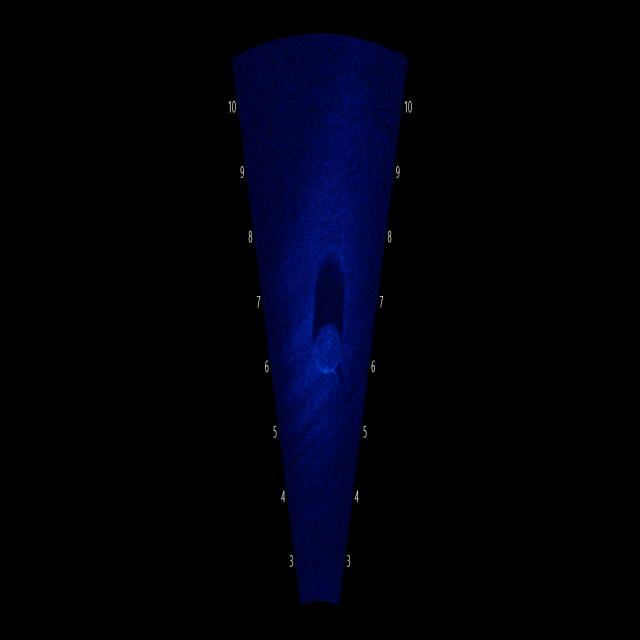circle: (299, 299, 355, 399)
